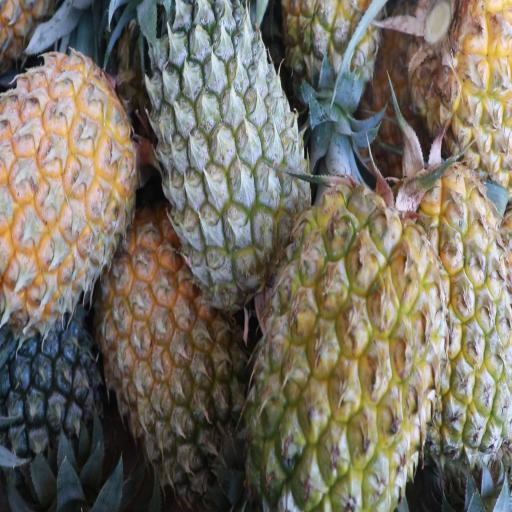------------------------------: (108, 210, 241, 482)
Pineapple - v8 v1: (243, 161, 441, 512), (395, 159, 512, 466), (0, 38, 138, 297)
